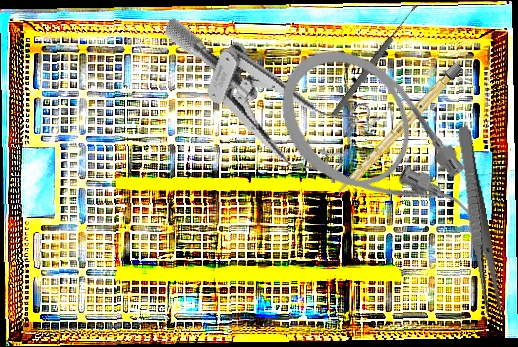Cannula: (253, 23, 500, 270)
Dressing Forceps: (452, 125, 504, 316)
Scalpel Handle: (334, 62, 463, 199)
Speculum: (135, 17, 389, 191)
Surgical Spoon: (329, 3, 420, 119)
